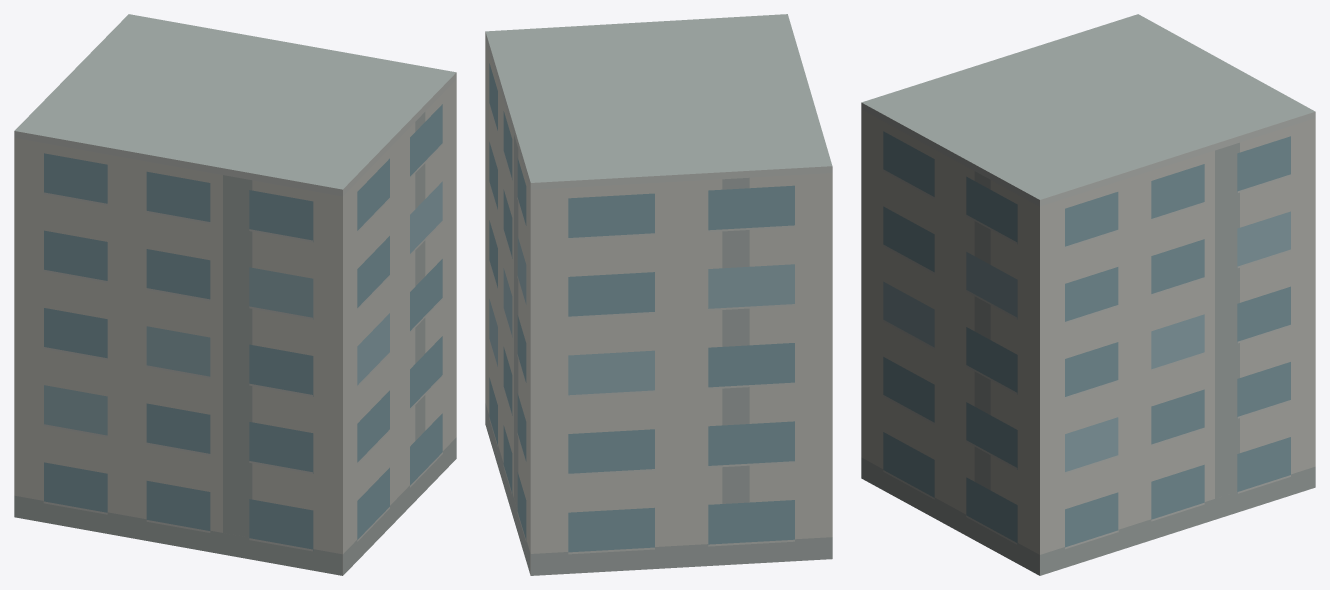
File: survey-upis-32885081.glb
The picture shows the model from 3 angles, left to right: view 1: azimuth 30°, elevation 25°; view 2: azimuth 150°, elevation 25°; view 3: azimuth 270°, elevation 25°; orthographic projection. The views are drawn at different scales.
Parts seen in each view (by area): view 1: survey-upis-32885081.tmp; view 2: survey-upis-32885081.tmp; view 3: survey-upis-32885081.tmp.
Boxes of the visible parts, x1,y1,x2,y2 form: survey-upis-32885081.tmp: (14,14,456,575); survey-upis-32885081.tmp: (485,14,832,575); survey-upis-32885081.tmp: (861,14,1315,575).
Bounding box in the file's own units: 14.55 × 13.7 × 15.01.
